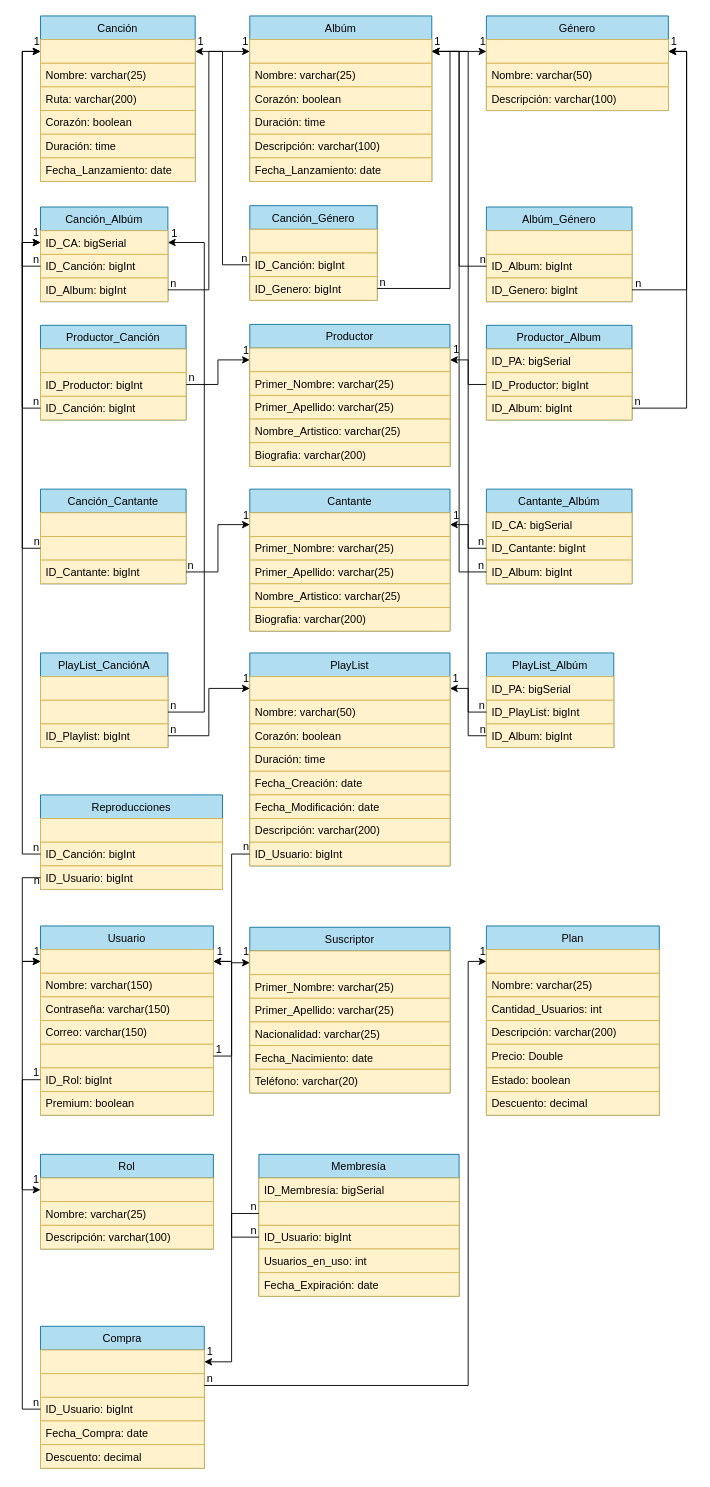
Image size: 710x1487. Some labels were removed from this diagram. The shapes that lost their labels are listed below. From the top down, each one's centre as x and y in pixels, then its label:
At pixel 117 51: "ID_Canción: bigSerial".
At pixel 340 51: "ID_Album: bigSerial".
At pixel 576 51: "ID_Genero: bigSerial".
At pixel 313 240: "ID_CG: bigSerial".
At pixel 558 242: "ID_AlbGen: bigSerial".
At pixel 113 360: "ID_PC: bigSerial".
At pixel 349 359: "ID_Producto: biSerial".
At pixel 113 524: "ID_CC: bigSerial".
At pixel 349 524: "ID_Cantante: biSerial".
At pixel 113 548: "ID_CanciónA: bigInt".
At pixel 104 688: "ID_PCA: bigSerial".
At pixel 349 688: "ID_PlayList: bigSerial".
At pixel 104 711: "ID_CA: bigInt".
At pixel 131 830: "ID_Reproduccion: bigSerial".
At pixel 126 961: "ID_Usuario: bigSerial".
At pixel 349 962: "ID_Suscriptor: bigSerial".
At pixel 572 961: "ID_Plan: bigSerial".
At pixel 126 1055: "ID_Suscriptor: bigInt".
At pixel 126 1189: "ID_Rol: bigSerial".
At pixel 358 1213: "ID_Compra: bigInt".
At pixel 122 1361: "ID_Compra: bigSerial".
At pixel 122 1385: "ID_Plan: bigInt".
